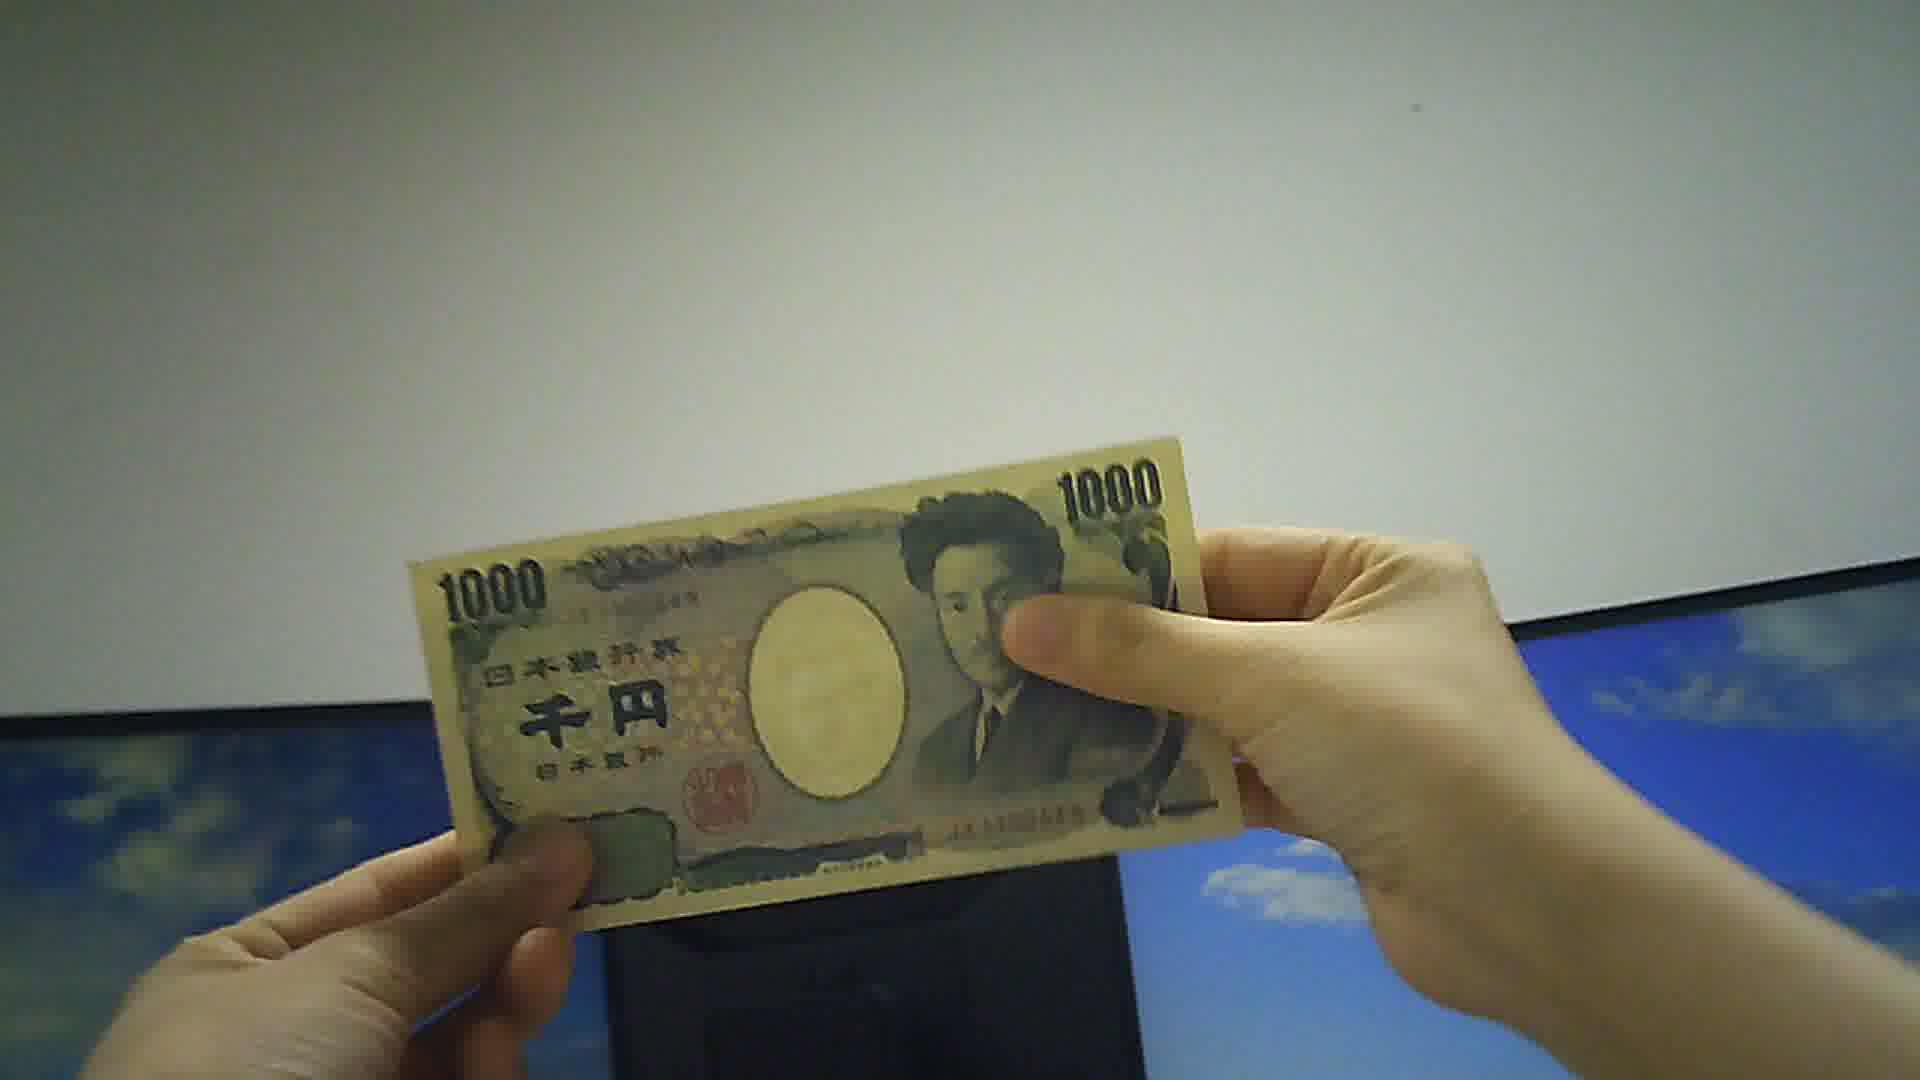1,000 Yen: (400, 427, 1255, 891)
